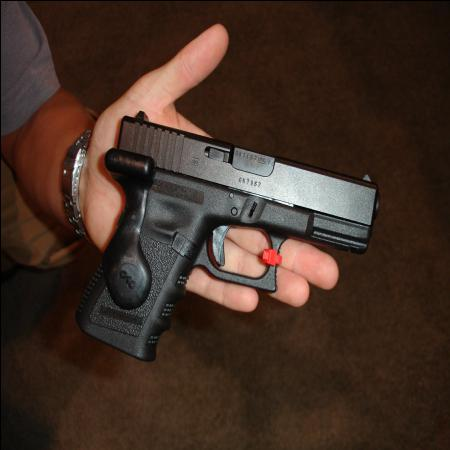Pistol: (75, 104, 382, 372)
